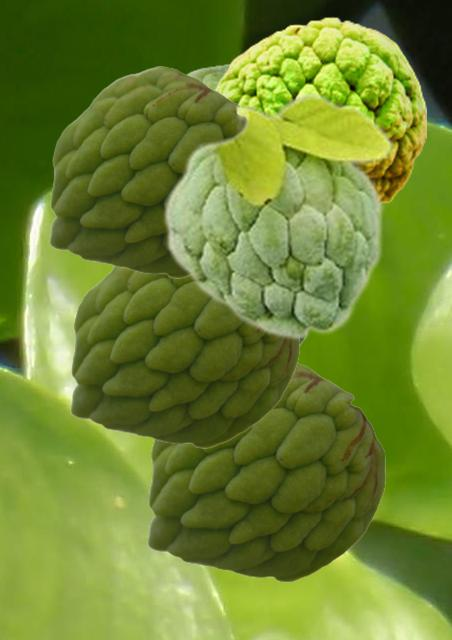atis: (161, 91, 394, 340), (147, 361, 384, 581), (70, 266, 298, 447), (49, 66, 240, 277), (213, 16, 425, 206), (184, 63, 228, 88)
